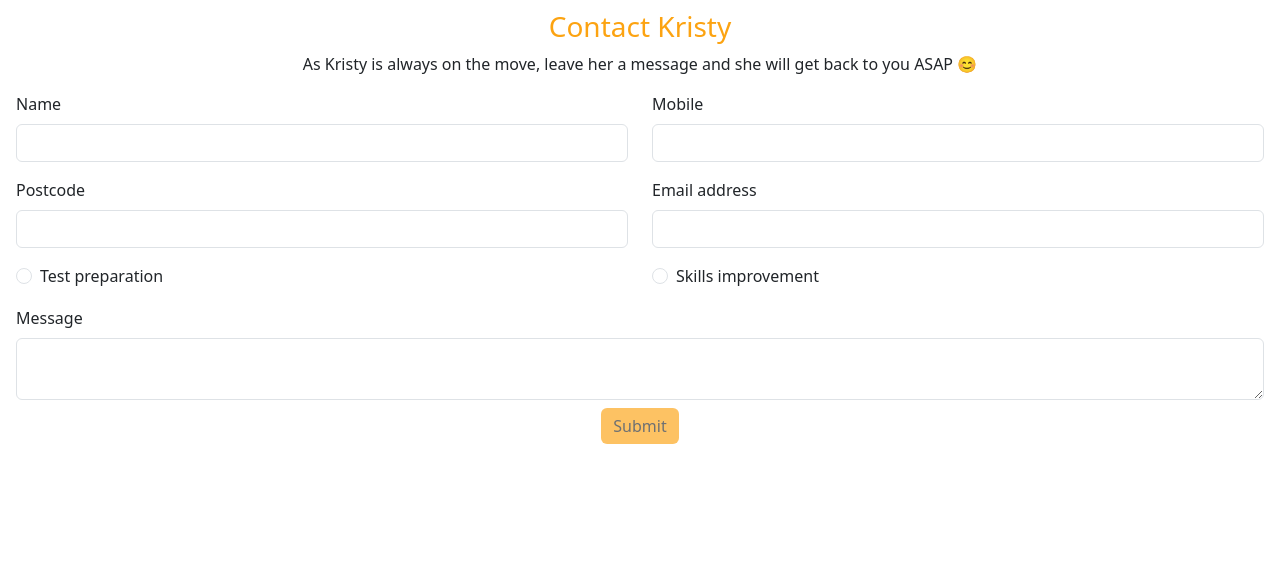
Test case: EnqAddForm tests › renders ErrorDiv when mobile is invalid
The image size is (1280, 569).
In the field labelled "Mobile": coordinates (958, 143) [652,124,1264,162], type "1234567890"
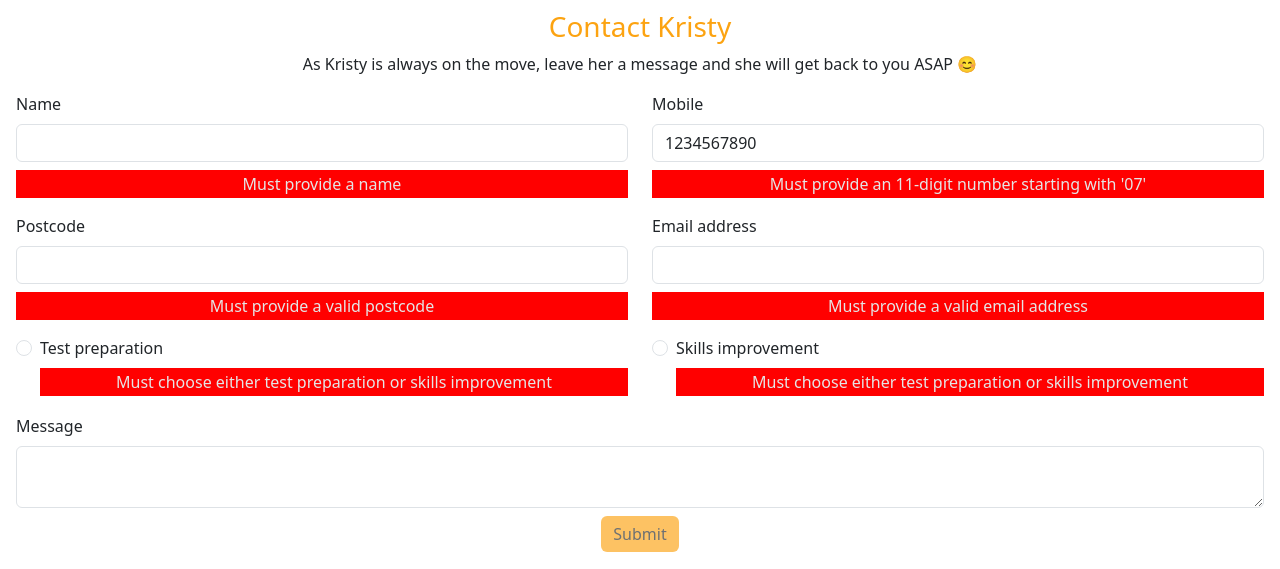
Expected: the text "Must provide an 11-digit number starting with '07'" is shown, [652,170,1264,198]
